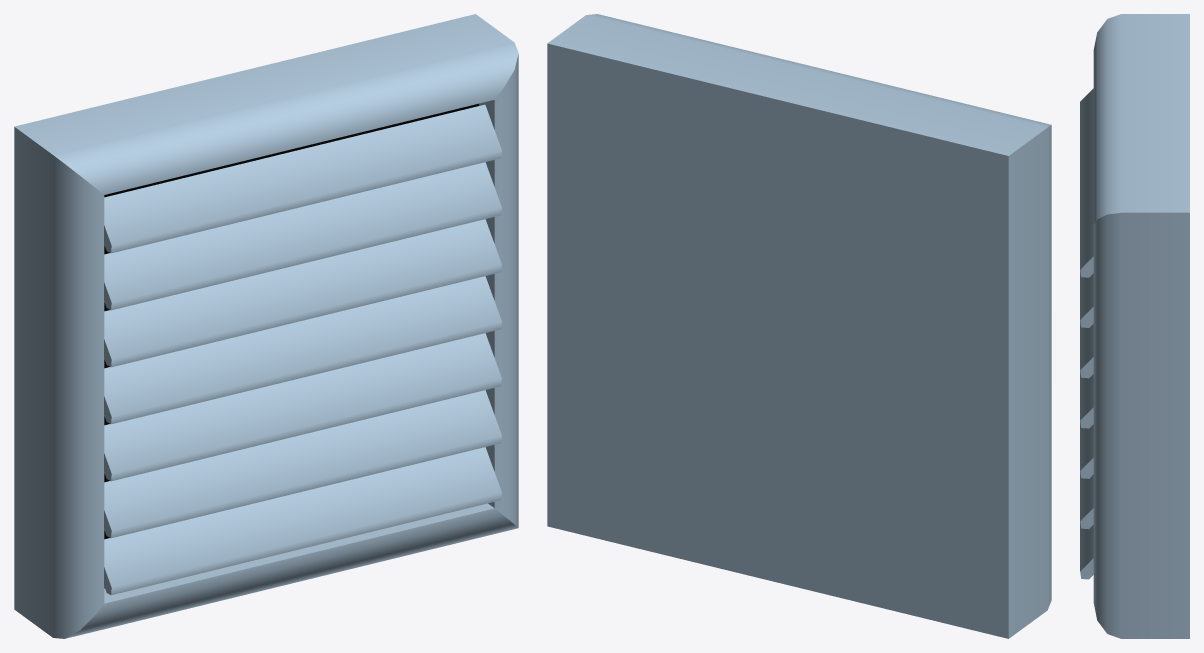
File: Wall Vent.fbx
3 views of the same model, side by side, from view 1: azimuth 30°, elevation 25°; view 2: azimuth 150°, elevation 25°; view 3: azimuth 270°, elevation 25° (orthographic). The views are drawn at different scales.
Parts seen in each view (by area): view 1: Wall Vent; view 2: Wall Vent; view 3: Wall Vent.
Part boxes in pixels (box(x1,y1,x2,y2)): Wall Vent: box(14, 14, 518, 638); Wall Vent: box(547, 14, 1051, 638); Wall Vent: box(1080, 14, 1189, 638).
Size of the model in its own units: 169 by 169 by 39.54.
